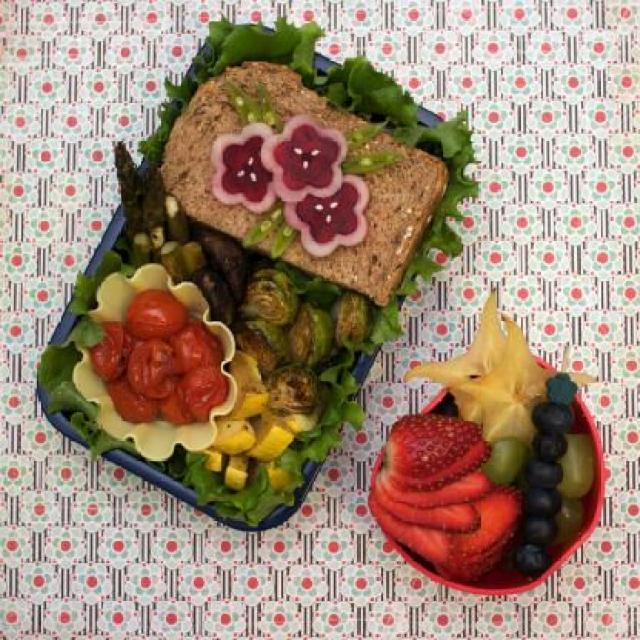Salad: (38, 3, 482, 534), (366, 277, 606, 588)
